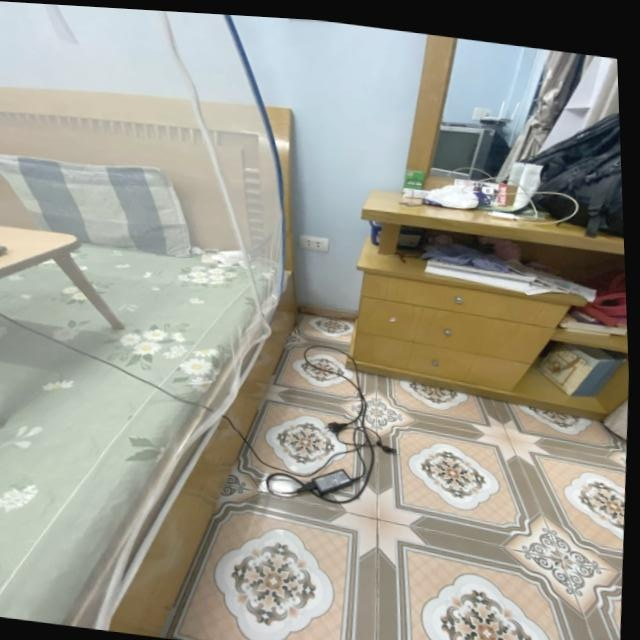outlet: (297, 237, 329, 254)
